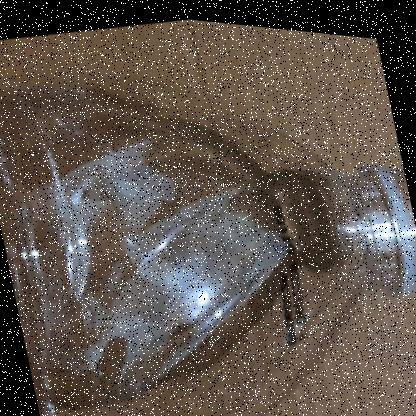open bottle: (118, 10, 416, 416)
